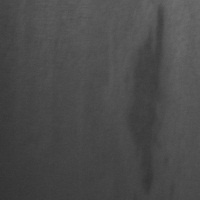inclusion: (123, 2, 167, 197)
